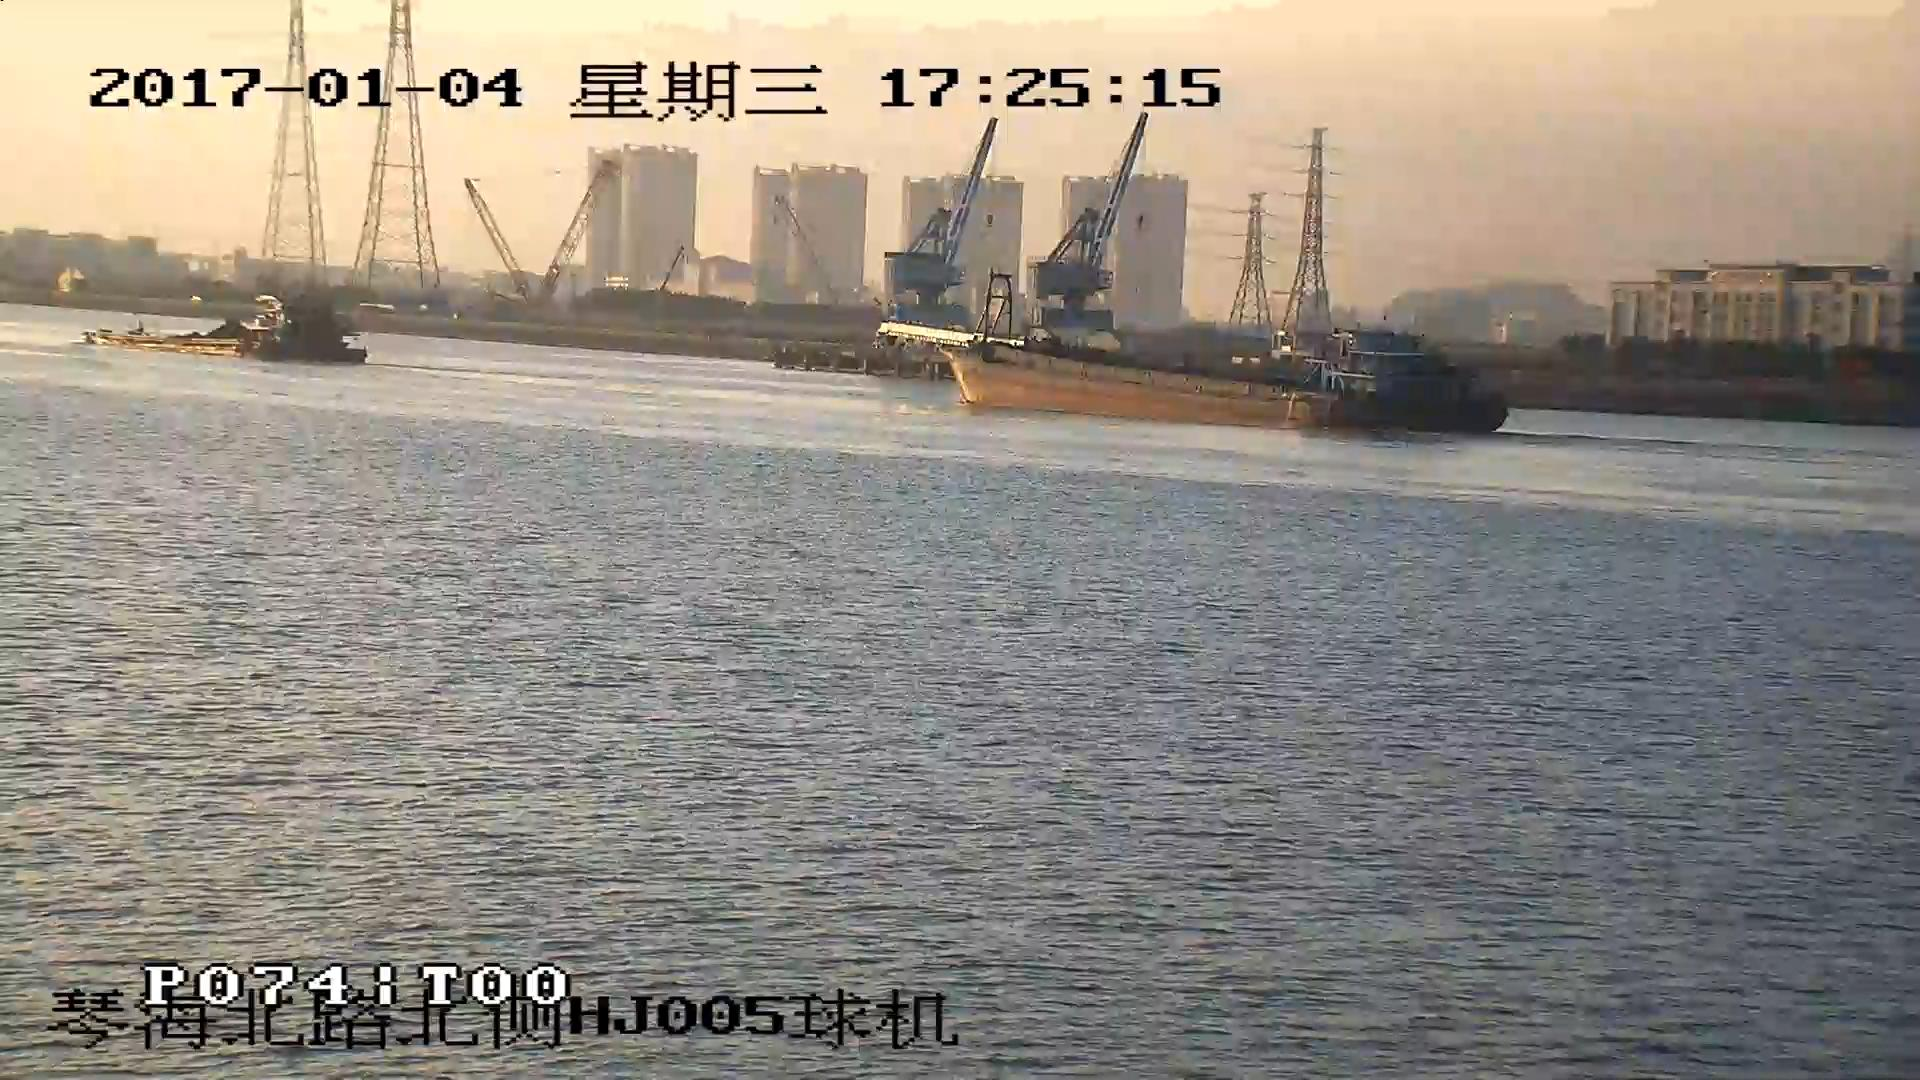bulk cargo carrier: (882, 322, 1507, 432)
ore carrier: (79, 297, 361, 362)
